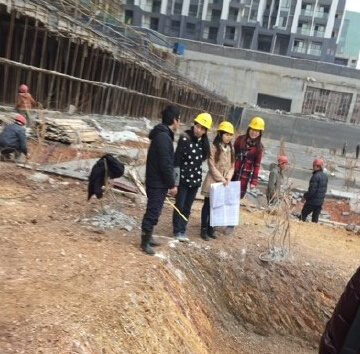none: (160, 103, 182, 132)
red: (277, 154, 288, 171), (310, 158, 323, 172)
yellow: (192, 111, 213, 139), (217, 119, 235, 146), (247, 115, 265, 140)
